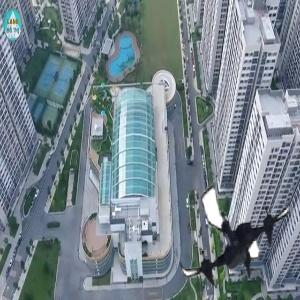drone: (174, 176, 297, 299)
